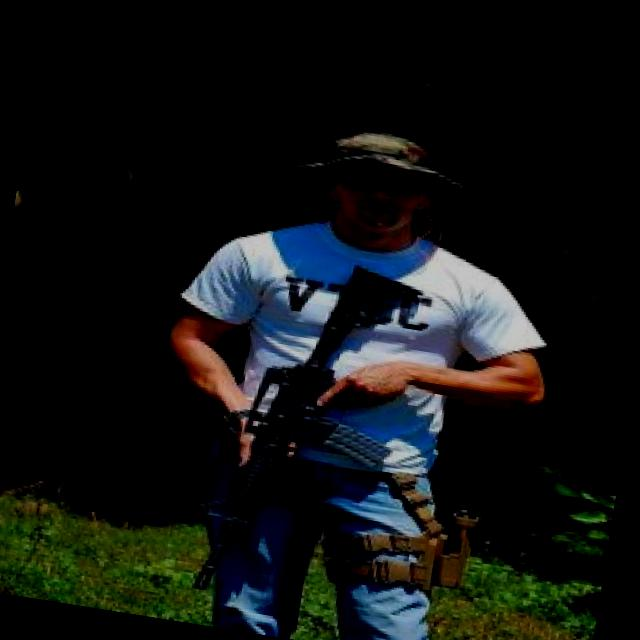long weapon: (146, 230, 434, 602)
